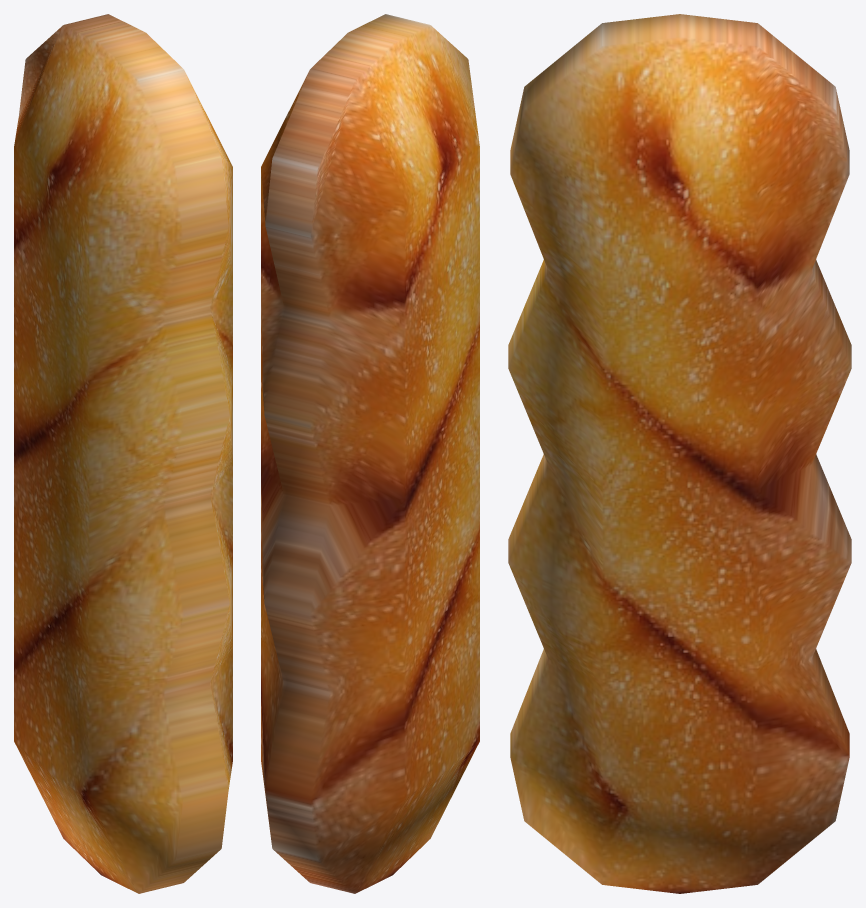
File: Twisted_Bread.fbx
3 views of the same model, side by side, from view 1: azimuth 30°, elevation 25°; view 2: azimuth 150°, elevation 25°; view 3: azimuth 270°, elevation 25° (orthographic). The views are drawn at different scales.
Visible parts, largest first — view 1: Plane; view 2: Plane; view 3: Plane.
Part boxes in pixels (<box>): Plane: <box>14,14,232,893</box>; Plane: <box>261,14,479,893</box>; Plane: <box>508,14,851,893</box>.
Bounding box in the file's own units: 39.77 × 221 × 80.16.
Materials: 1 (1 with a texture image).
